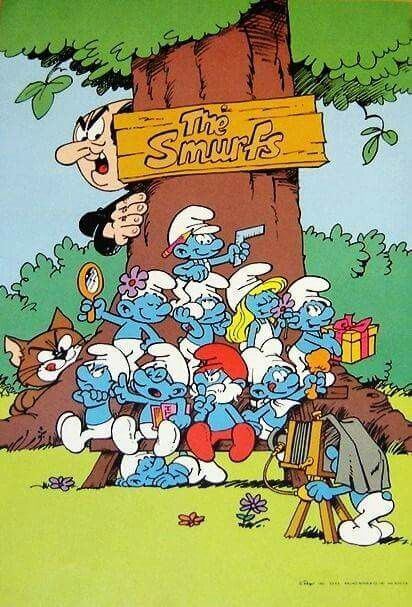smurf: (320, 445, 399, 546), (189, 346, 254, 463), (53, 343, 120, 452), (118, 346, 185, 453), (241, 345, 312, 445), (284, 272, 345, 372), (161, 205, 222, 302), (226, 262, 290, 346), (111, 267, 172, 347), (114, 446, 225, 488), (173, 275, 226, 351)
